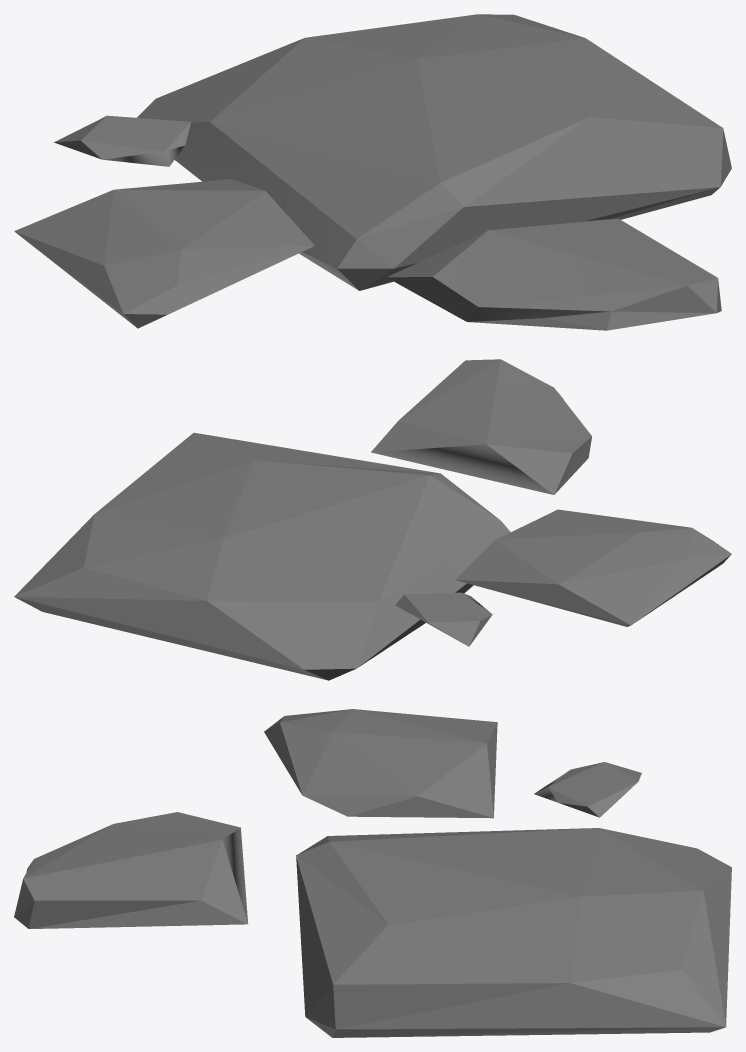
Rendered from Tile_06.fbx.
3 views of the same model, one above another, from view 1: azimuth 30°, elevation 25°; view 2: azimuth 150°, elevation 25°; view 3: azimuth 270°, elevation 25° (orthographic). The views are drawn at different scales.
Parts seen in each view (by area): view 1: Tile_06; view 2: Tile_06; view 3: Tile_06.
Part boxes in pixels (box(x1,y1,x2,y2)): Tile_06: box(14, 14, 731, 330); Tile_06: box(14, 359, 731, 680); Tile_06: box(14, 709, 731, 1037).
Bounding box in the file's own units: 1.72 × 0.2269 × 1.82.
